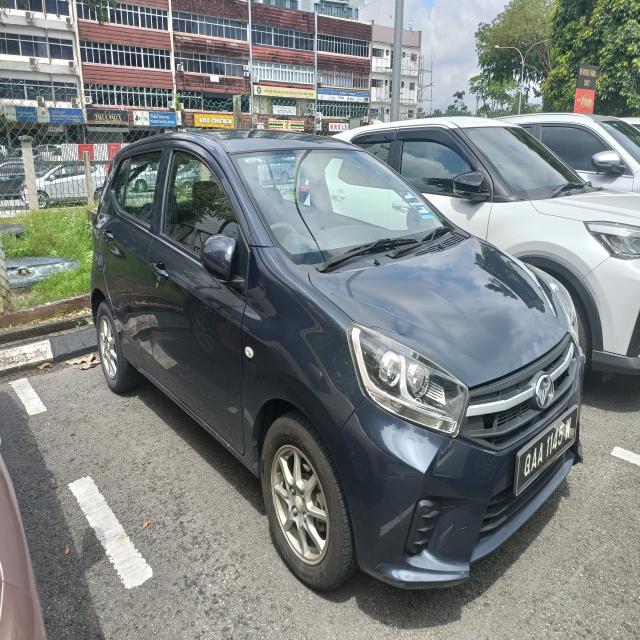PeroduaAxia: (87, 125, 587, 593)
